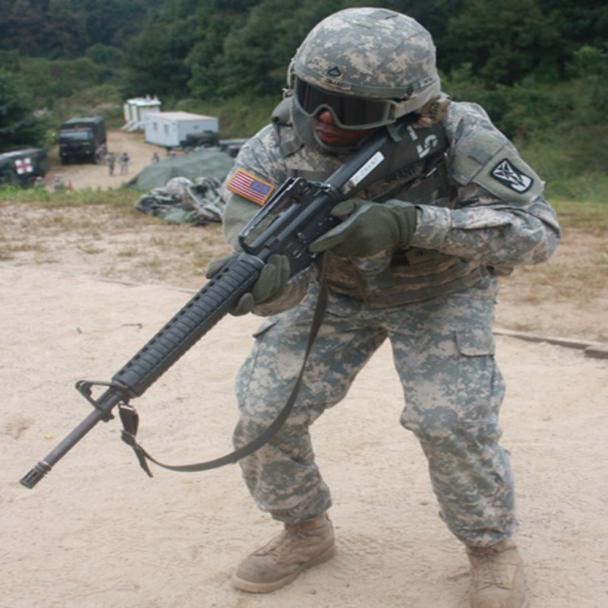Gun: (0, 120, 436, 574)
